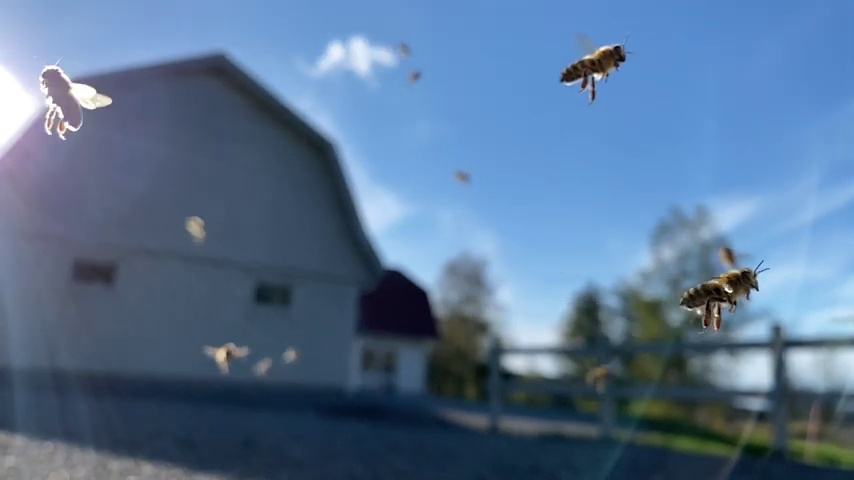insect: (674, 249, 767, 330), (30, 58, 112, 140), (558, 32, 633, 101)
